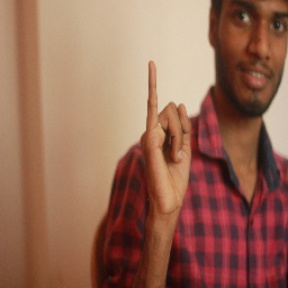I: (137, 59, 195, 213)
